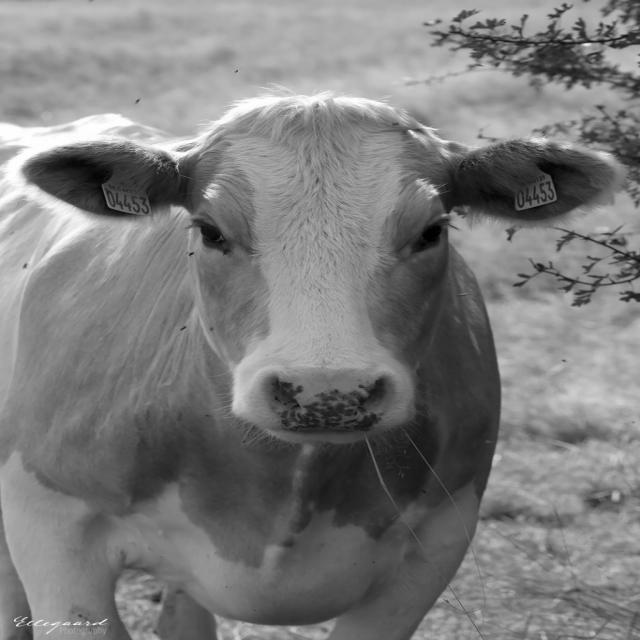cow: (0, 94, 624, 640)
